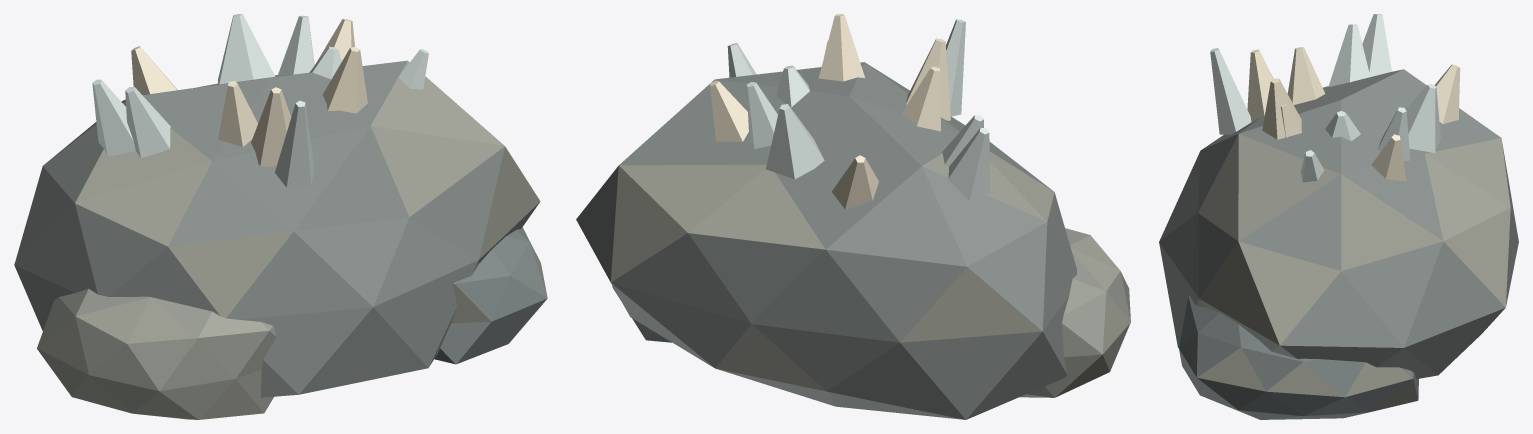
The model's file is resource_ore_quartz.glb.
The picture shows the model from 3 angles, left to right: view 1: azimuth 30°, elevation 25°; view 2: azimuth 150°, elevation 25°; view 3: azimuth 270°, elevation 25°; orthographic projection. The views are drawn at different scales.
Visible parts, largest first — view 1: Host stone, Host stone.001, Host stone.002, Visible quartz crystal.002, Visible quartz crystal.006, Visible quartz crystal.004, Visible quartz crystal.012, Visible quartz crystal.001, Visible quartz crystal.011, Visible quartz crystal.009, Visible quartz crystal.010, Visible quartz crystal.007 (+3 smaller); view 2: Host stone, Host stone.001, Visible quartz crystal.002, Visible quartz crystal.012, Visible quartz crystal.011, Visible quartz crystal.005, Visible quartz crystal.009, Visible quartz crystal.007, Visible quartz crystal.010, Visible quartz crystal.006, Visible quartz crystal.001, Visible quartz crystal (+2 smaller); view 3: Host stone, Host stone.002, Visible quartz crystal.006, Visible quartz crystal.002, Visible quartz crystal.004, Visible quartz crystal.009, Visible quartz crystal.011, Visible quartz crystal.001, Visible quartz crystal.012, Visible quartz crystal.007, Visible quartz crystal.005, Visible quartz crystal.010 (+2 smaller).
Part boxes in pixels (left/top/right/bottom): Host stone: left=14, top=60, right=540, bottom=397; Host stone.001: left=37, top=288, right=276, bottom=419; Host stone.002: left=434, top=227, right=547, bottom=364; Visible quartz crystal.002: left=218, top=14, right=275, bottom=84; Visible quartz crystal.006: left=275, top=100, right=313, bottom=187; Visible quartz crystal.004: left=125, top=87, right=170, bottom=158; Visible quartz crystal.012: left=92, top=79, right=135, bottom=156; Visible quartz crystal.001: left=251, top=87, right=291, bottom=166; Visible quartz crystal.011: left=322, top=47, right=367, bottom=113; Visible quartz crystal.009: left=218, top=81, right=257, bottom=146; Visible quartz crystal.010: left=277, top=15, right=314, bottom=76; Visible quartz crystal.007: left=131, top=46, right=177, bottom=95; Host stone: left=576, top=62, right=1076, bottom=419; Host stone.001: left=1019, top=228, right=1130, bottom=397; Visible quartz crystal.002: left=766, top=104, right=824, bottom=179; Visible quartz crystal.012: left=948, top=128, right=990, bottom=200; Visible quartz crystal.011: left=818, top=14, right=864, bottom=81; Visible quartz crystal.005: left=710, top=80, right=748, bottom=141; Visible quartz crystal.009: left=901, top=66, right=940, bottom=131; Visible quartz crystal.007: left=832, top=155, right=878, bottom=209; Visible quartz crystal.010: left=746, top=82, right=777, bottom=148; Visible quartz crystal.006: left=946, top=19, right=965, bottom=116; Visible quartz crystal.001: left=906, top=38, right=950, bottom=120; Visible quartz crystal: left=776, top=65, right=809, bottom=107; Host stone: left=1159, top=69, right=1518, bottom=378; Host stone.002: left=1179, top=296, right=1418, bottom=419; Visible quartz crystal.006: left=1210, top=48, right=1251, bottom=134; Visible quartz crystal.002: left=1405, top=84, right=1440, bottom=152; Visible quartz crystal.004: left=1328, top=24, right=1370, bottom=86; Visible quartz crystal.009: left=1287, top=47, right=1325, bottom=104; Visible quartz crystal.011: left=1262, top=78, right=1301, bottom=139; Visible quartz crystal.001: left=1247, top=49, right=1273, bottom=121; Visible quartz crystal.012: left=1362, top=14, right=1391, bottom=76; Visible quartz crystal.007: left=1434, top=64, right=1460, bottom=123; Visible quartz crystal.005: left=1371, top=134, right=1406, bottom=181; Visible quartz crystal.010: left=1377, top=107, right=1410, bottom=160.
Bounding box in the file's own units: 1.87 × 1.14 × 1.33.
